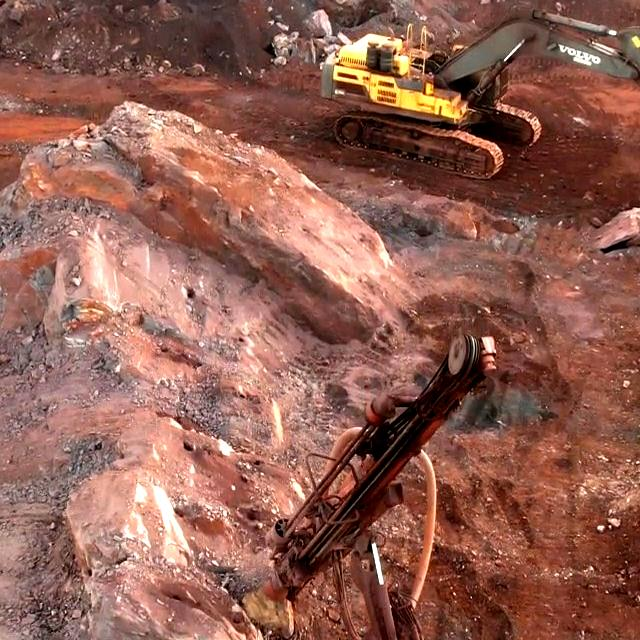Excavator: (332, 39, 510, 172)
